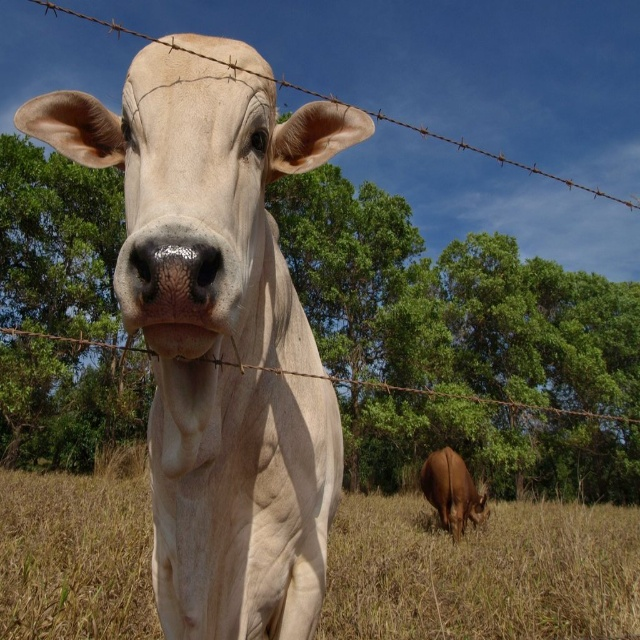Cattle: (13, 33, 375, 640), (420, 446, 491, 547)
